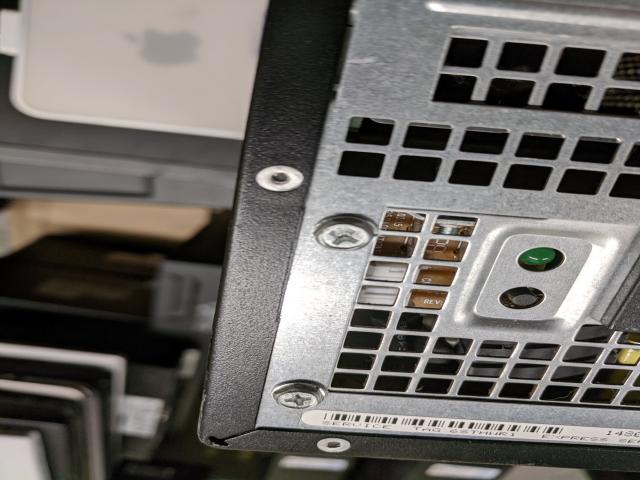CRS: (309, 214, 378, 253), (272, 382, 324, 410)
